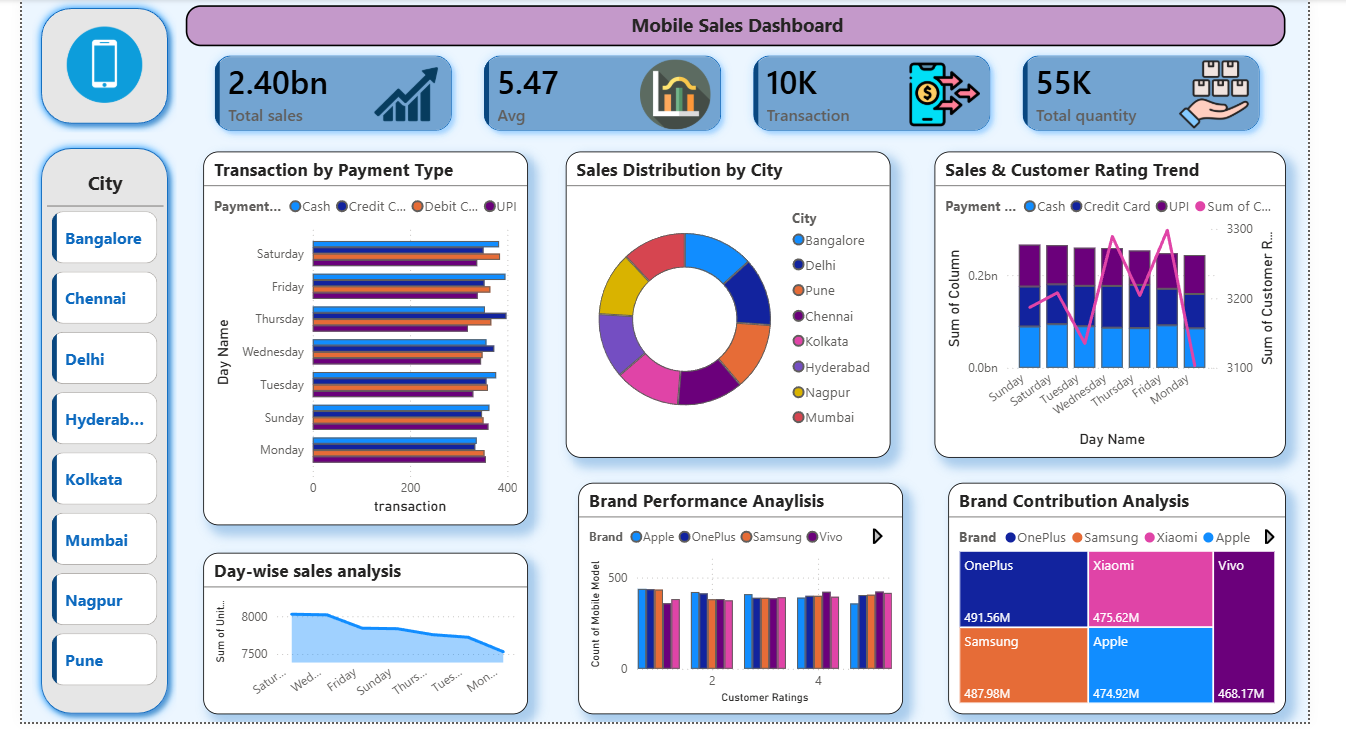

The dashboard page shown, as its layout file describes it:
{"tool":"powerbi","page":{"name":"Page 1","canvas":[1280,720],"ordinal":0},"visuals":[{"type":"shape","box":[10,0,144.3,133.1],"z":0},{"type":"shape","box":[10,139.3,144.3,580.9],"z":1000},{"type":"image","box":[37.3,27.4,89.6,75.9],"z":2000},{"type":"advancedSlicerVisual","fields":{"Values":["Mobile Sales Data.City"]},"box":[24.9,170.4,115.7,522.5],"z":3000},{"type":"cardVisual","title":" Regional sale performance","fields":{"Data":["Sum(Mobile Sales Data.Column)","Mobile Sales Data.avg","Mobile Sales Data.transaction","Mobile Sales Data.total quantity"]},"box":[163,27.4,1100.9,133.1],"z":4000},{"type":"clusteredBarChart","title":"Transaction by Payment Type","fields":{"Category":["Mobile Sales Data.Day Name"],"Y":["Mobile Sales Data.transaction"],"Series":["Mobile Sales Data.Payment Method"]},"box":[180.4,151.8,323.4,371.9],"z":5000},{"type":"treemap","title":"Brand Contribution Analysis","fields":{"Group":["Mobile Sales Data.Brand"],"Values":["Sum(Mobile Sales Data.Column)"]},"box":[921.8,481.4,335.9,230.1],"z":6000},{"type":"clusteredColumnChart","title":"Brand Performance Anaylisis","fields":{"Y":["CountNonNull(Mobile Sales Data.Mobile Model)"],"Category":["Mobile Sales Data.Customer Ratings"],"Series":["Mobile Sales Data.Brand"]},"box":[553.6,481.4,323.4,230.1],"z":7000},{"type":"donutChart","title":"Sales Distribution by City","fields":{"Category":["Mobile Sales Data.City"],"Y":["Mobile Sales Data.total quantity"]},"box":[541.1,151.8,323.4,304.8],"z":8000},{"type":"lineStackedColumnComboChart","title":"Sales & Customer Rating Trend","fields":{"Y":["Sum(Mobile Sales Data.Column)"],"Y2":["Sum(Mobile Sales Data.Customer Ratings)"],"Category":["Mobile Sales Data.Day Name"],"Series":["Mobile Sales Data.Payment Method"]},"box":[908.1,151.8,349.6,304.8],"z":9000},{"type":"textbox","title":"Mobile Sales Dashboard","box":[163,6.2,1094.7,41.1],"z":9500},{"type":"areaChart","title":"Day-wise sales analysis","fields":{"Category":["Mobile Sales Data.Day Name"],"Y":["Sum(Mobile Sales Data.Units Sold)"]},"box":[180.4,551.1,323.4,160.5],"z":10000}]}

Visuals, with their boxes in screenshot pixels (x1, y1, x2, y2):
shape: left=35, top=0, right=179, bottom=129
shape: left=35, top=136, right=179, bottom=716
image: left=62, top=24, right=151, bottom=100
advancedSlicerVisual - Mobile Sales Data.City: left=49, top=167, right=165, bottom=688
" Regional sale performance" cardVisual: left=187, top=24, right=1287, bottom=157
"Transaction by Payment Type" clusteredBarChart: left=205, top=148, right=528, bottom=519
"Brand Contribution Analysis" treemap: left=945, top=477, right=1281, bottom=707
"Brand Performance Anaylisis" clusteredColumnChart: left=577, top=477, right=900, bottom=707
"Sales Distribution by City" donutChart: left=565, top=148, right=888, bottom=452
"Sales & Customer Rating Trend" lineStackedColumnComboChart: left=931, top=148, right=1281, bottom=452
"Mobile Sales Dashboard" textbox: left=187, top=3, right=1281, bottom=44
"Day-wise sales analysis" areaChart: left=205, top=547, right=528, bottom=707
